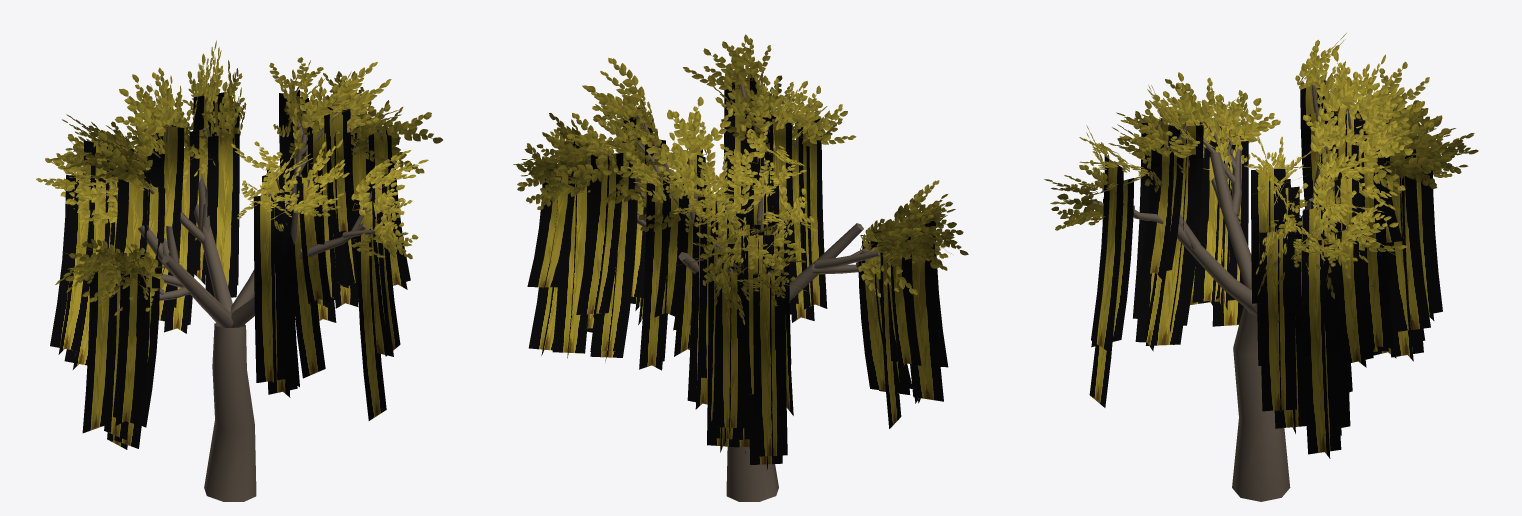
File: willow_1_burnt1.glb
The picture shows the model from 3 angles, left to right: view 1: azimuth 30°, elevation 25°; view 2: azimuth 150°, elevation 25°; view 3: azimuth 270°, elevation 25°; orthographic projection. The views are drawn at different scales.
Parts seen in each view (by area): view 1: willow_1_burnt1; view 2: willow_1_burnt1; view 3: willow_1_burnt1.
Boxes of the visible parts, x1,y1,x2,y2 form: willow_1_burnt1: (36,40,442,501); willow_1_burnt1: (513,34,968,501); willow_1_burnt1: (1044,33,1478,501).
Size of the model in its own units: 9.25 by 8.83 by 8.36.
Materials: 3 (2 with a texture image).
